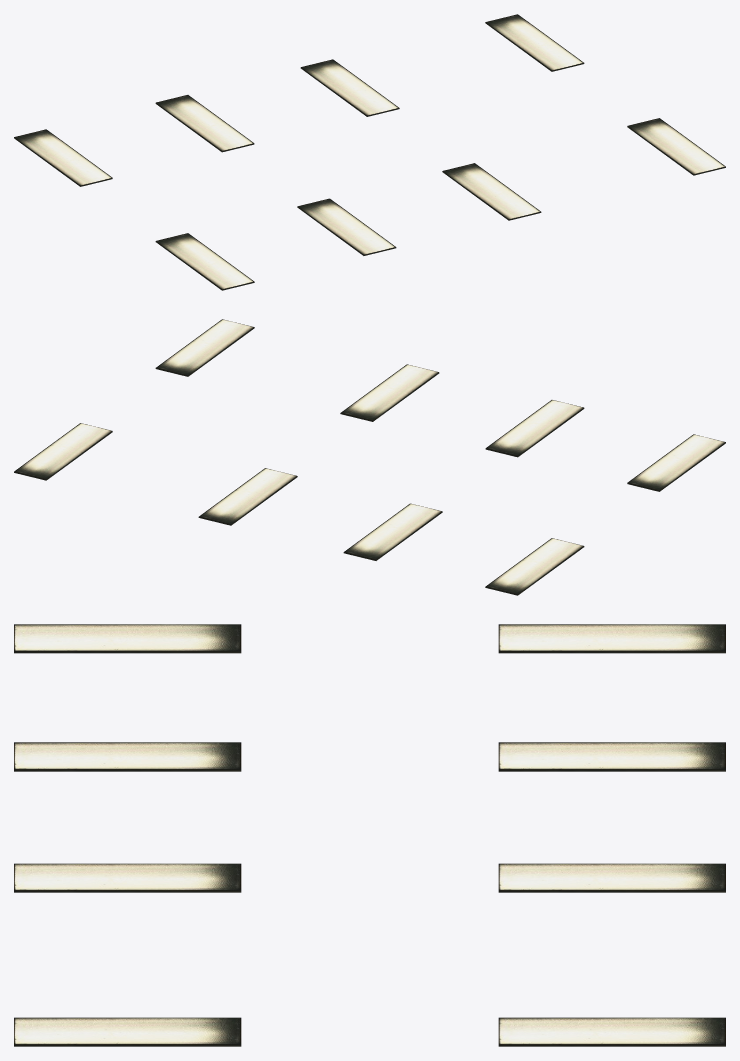
Rendered from lamps.glb.
3 views of the same model, one above another, from view 1: azimuth 30°, elevation 25°; view 2: azimuth 150°, elevation 25°; view 3: azimuth 270°, elevation 25° (orthographic). The views are drawn at different scales.
Visible parts, largest first — view 1: Lamp.008_Light_0.001; view 2: Lamp.008_Light_0.001; view 3: Lamp.008_Light_0.001.
Part boxes in pixels (bbox=[...]): Lamp.008_Light_0.001: bbox=[14, 14, 725, 290]; Lamp.008_Light_0.001: bbox=[14, 319, 725, 595]; Lamp.008_Light_0.001: bbox=[14, 624, 725, 1046].
Size of the model in its own units: 8.74 by 0.0196 by 6.26.
1 material, 1 textured.
